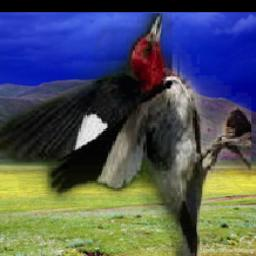Woodpecker: (0, 13, 252, 256)
